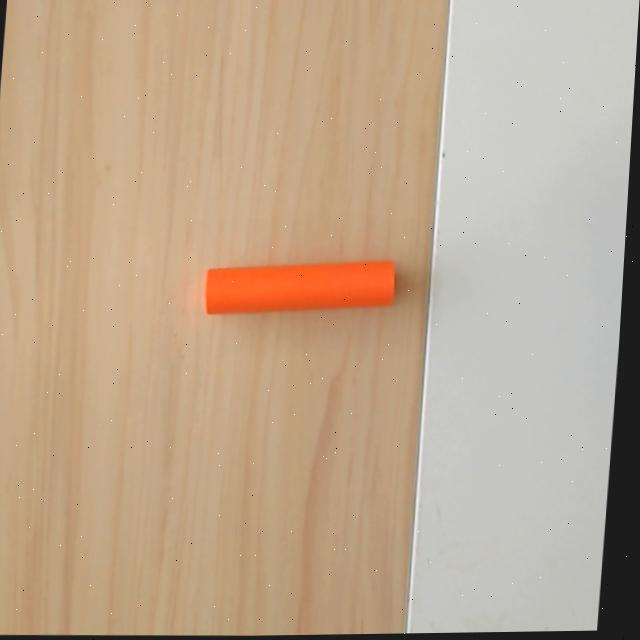Silinder-Jingga-10025: (203, 259, 396, 314)
